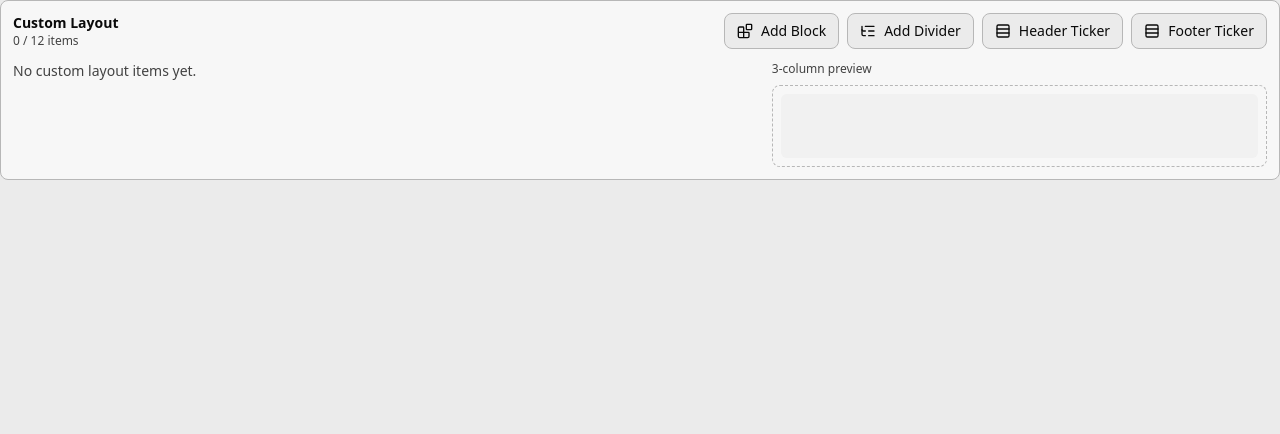
Test case: CustomLayoutBuilder — shell › adds custom layout item shells
Click the button with test id "settings-custom-layout-add-metric-block": [782, 31] box top-left (724, 13), bottom-right (839, 49)
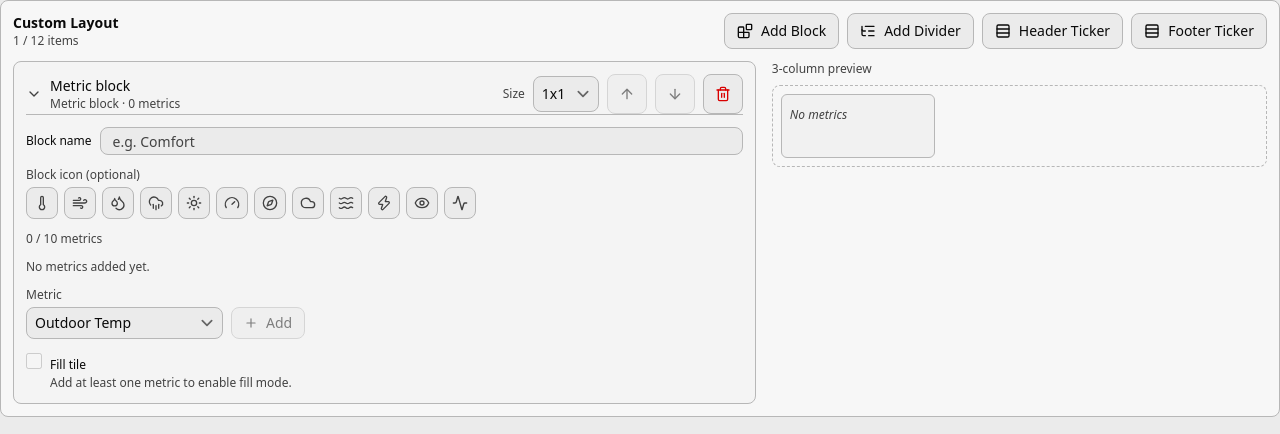
Note: collapse the auto-expanded block before adding more
Click the button with test id "settings-custom-layout-item-expand": [34, 94] box top-left (26, 86), bottom-right (42, 102)
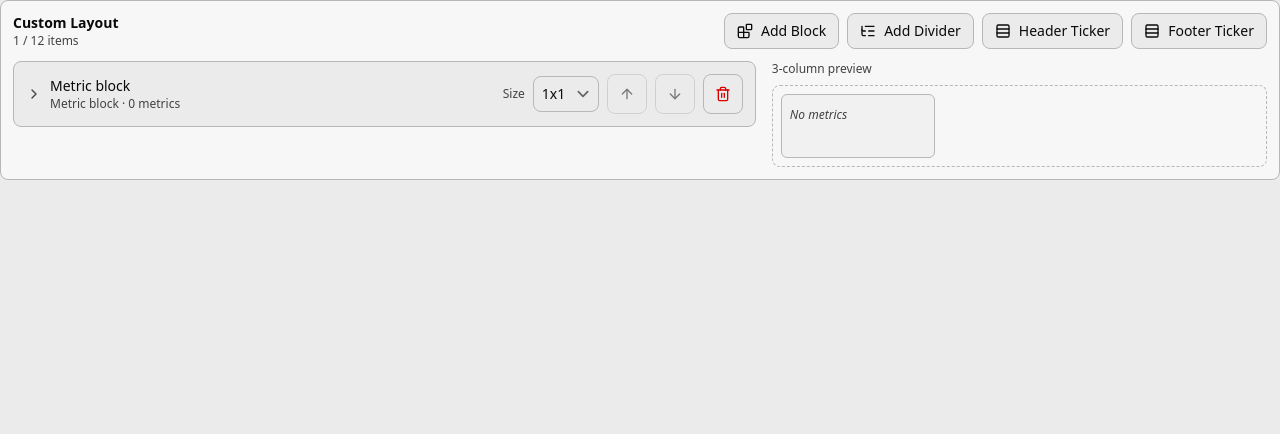
Click the button with test id "settings-custom-layout-add-divider": [911, 31] box top-left (847, 13), bottom-right (974, 49)
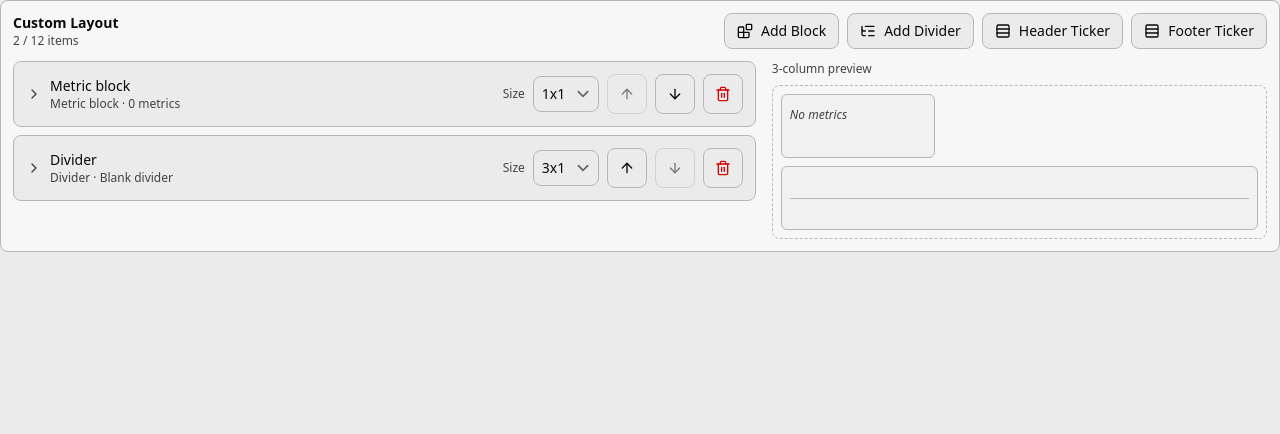
Click the button with test id "settings-custom-layout-add-header-ticker": [1052, 31] box top-left (982, 13), bottom-right (1123, 49)
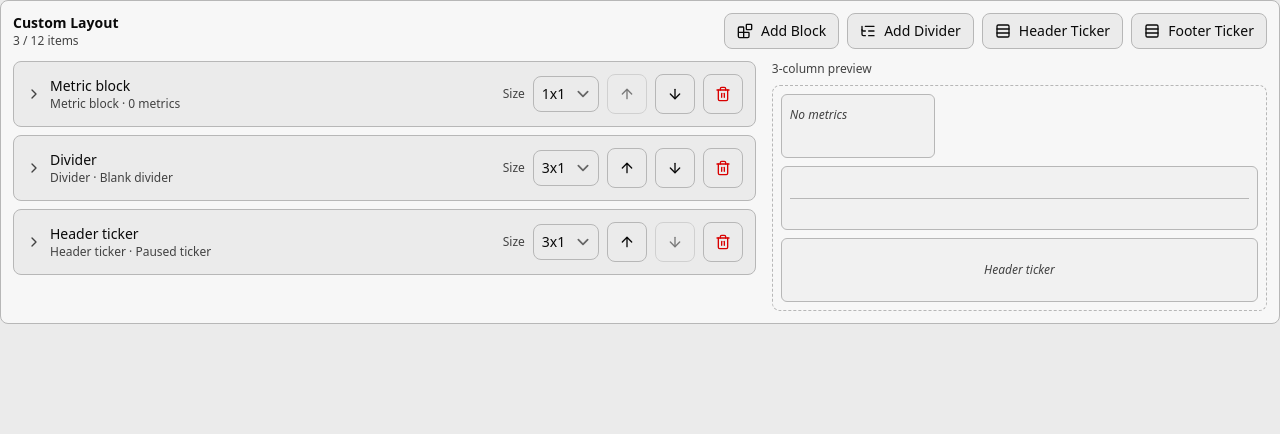
Click the button with test id "settings-custom-layout-add-footer-ticker": [1199, 31] box top-left (1131, 13), bottom-right (1267, 49)
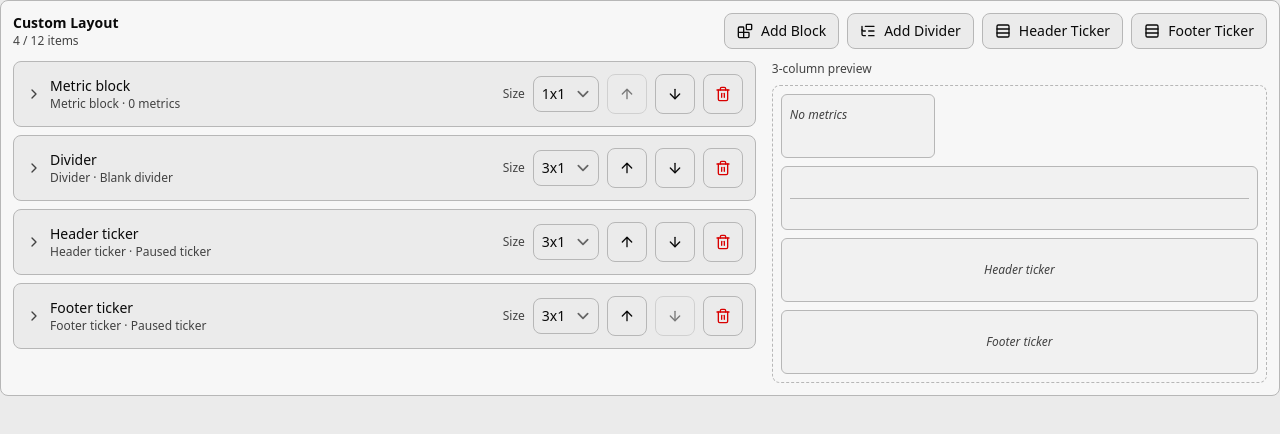
Expected: the text with test id "settings-custom-layout-count" reads "4 / 12 items", top-left (13, 32), bottom-right (79, 49)
Expected: the number of list items with test id "settings-custom-layout-item" is 4, top-left (13, 61), bottom-right (756, 127); top-left (13, 135), bottom-right (756, 201); top-left (13, 209), bottom-right (756, 275); top-left (13, 283), bottom-right (756, 349)
